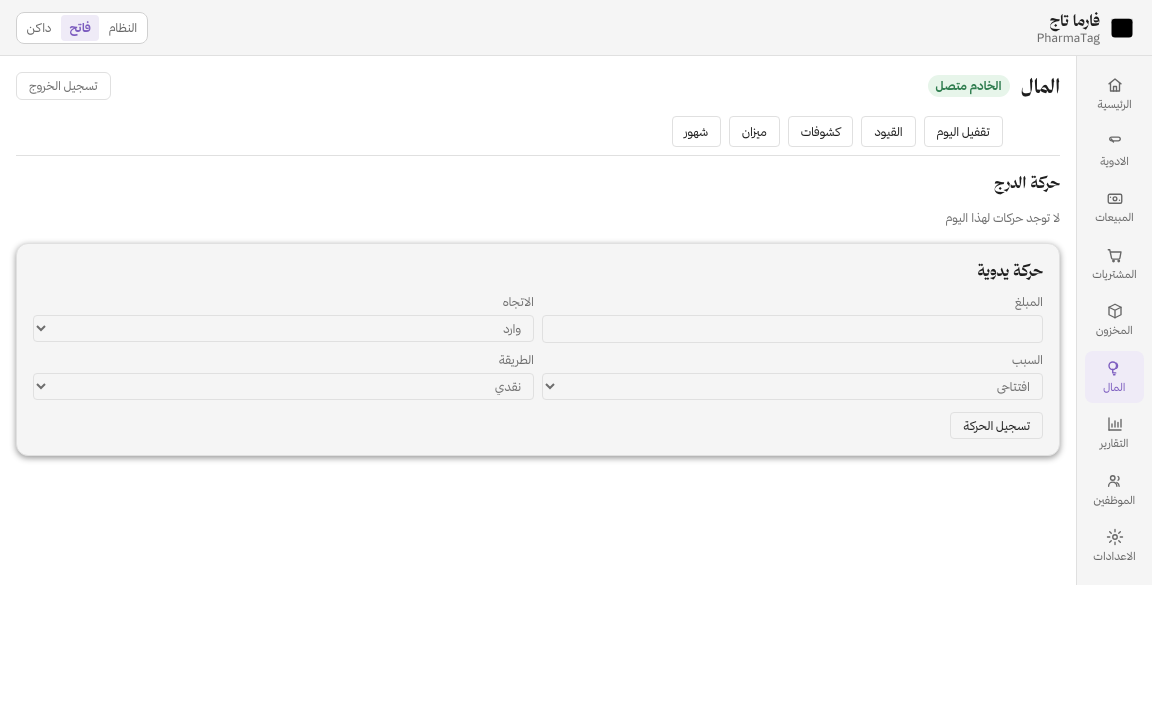
MoneyPage — shell & drawer › switching tabs is client-only (no refetch of drawer)
Click the tab "تقفيل اليوم".
click(963, 132)  # box [924,116,1003,147]
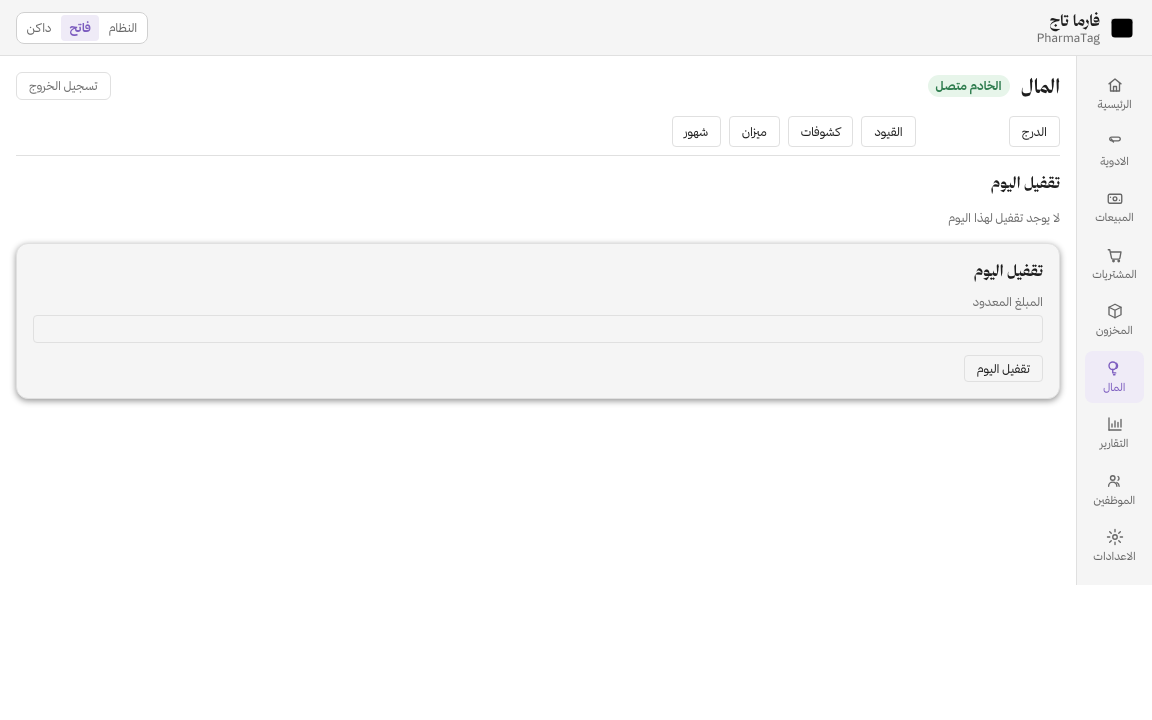
Check: the text "لا يوجد تقفيل لهذا اليوم" is shown, box [948,210,1060,225]
